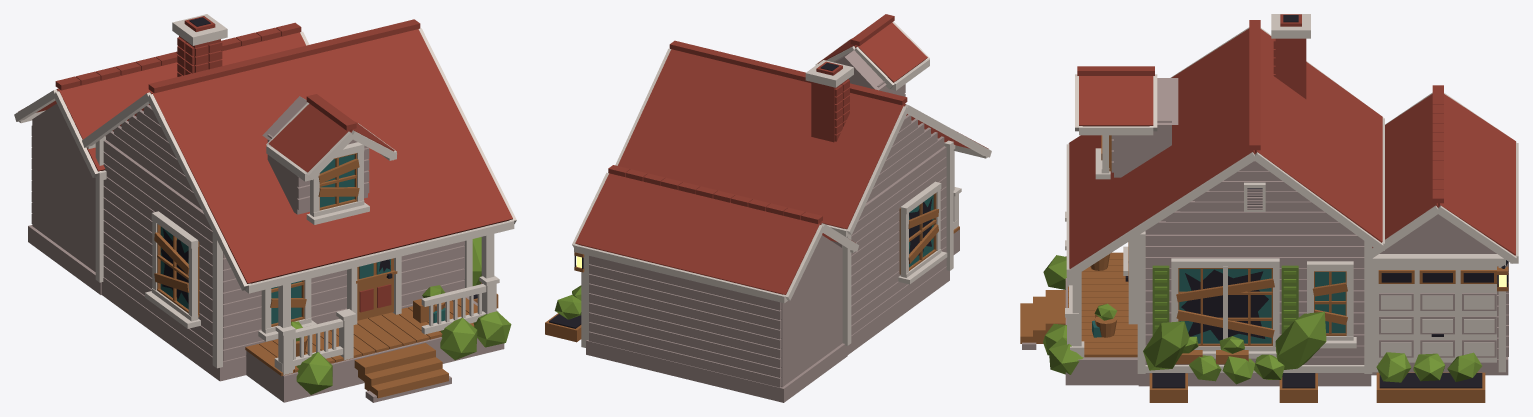
The picture shows the model from 3 angles, left to right: view 1: azimuth 30°, elevation 25°; view 2: azimuth 150°, elevation 25°; view 3: azimuth 270°, elevation 25°; orthographic projection. The views are drawn at different scales.
Visible parts, largest first — view 1: roof_pal_picketWhite, body_pal_picketWhite, dormer_roof_pal_picketWhite, door_entry_pal_picketWhite; view 2: roof_pal_picketWhite, body_pal_picketWhite, dormer_roof_pal_picketWhite; view 3: body_pal_picketWhite, roof_pal_picketWhite, door_garage_pal_picketWhite, dormer_roof_pal_picketWhite.
Part boxes in pixels (x1=…): roof_pal_picketWhite: x1=14, y1=14, x2=516, y2=293; body_pal_picketWhite: x1=28, y1=103, x2=511, y2=402; dormer_roof_pal_picketWhite: x1=266, y1=94, x2=396, y2=181; door_entry_pal_picketWhite: x1=356, y1=258, x2=397, y2=320; roof_pal_picketWhite: x1=572, y1=40, x2=991, y2=303; body_pal_picketWhite: x1=545, y1=114, x2=961, y2=402; dormer_roof_pal_picketWhite: x1=815, y1=14, x2=929, y2=90; body_pal_picketWhite: x1=1020, y1=161, x2=1508, y2=402; roof_pal_picketWhite: x1=1066, y1=14, x2=1518, y2=276; door_garage_pal_picketWhite: x1=1378, y1=266, x2=1496, y2=362; dormer_roof_pal_picketWhite: x1=1075, y1=66, x2=1157, y2=135.
Size of the model in its own units: 7.43 by 6.8 by 11.04.
